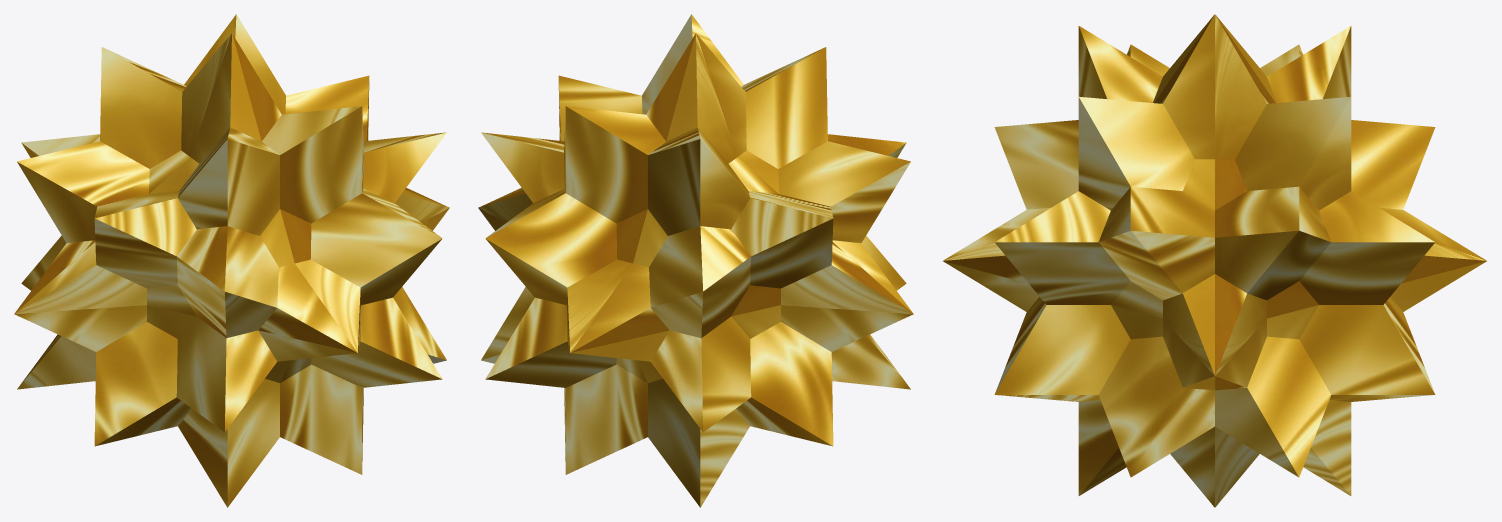
File: gold.obj
The picture shows the model from 3 angles, left to right: view 1: azimuth 30°, elevation 25°; view 2: azimuth 150°, elevation 25°; view 3: azimuth 270°, elevation 25°; orthographic projection. The views are drawn at different scales.
Visible parts, largest first — view 1: Hedra001; view 2: Hedra001; view 3: Hedra001.
Part boxes in pixels (x1,y1,x2,y2): Hedra001: (14,14,449,507); Hedra001: (478,14,913,507); Hedra001: (943,14,1486,507).
Size of the model in its own units: 57.42 by 57.42 by 57.42.
Materials: 1 (1 with a texture image).
